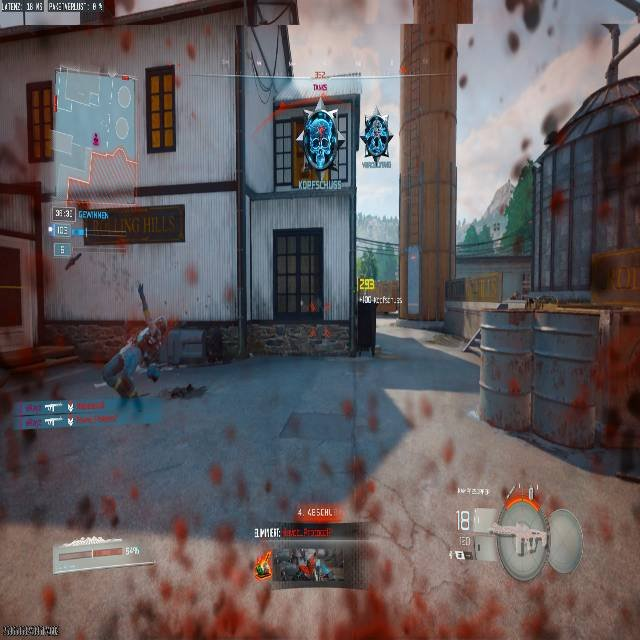player: (299, 107, 335, 178)
